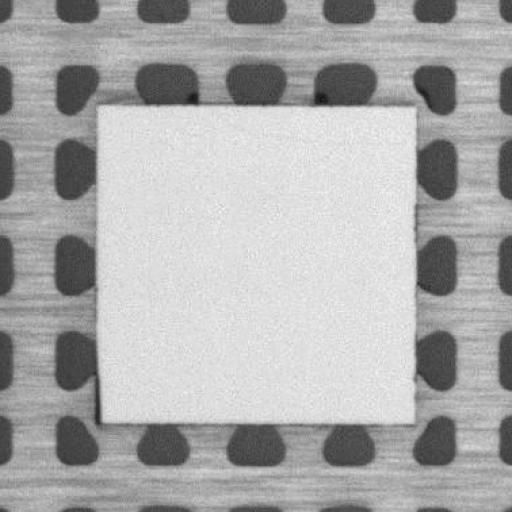DIE_CRACK: (217, 114, 417, 148)
